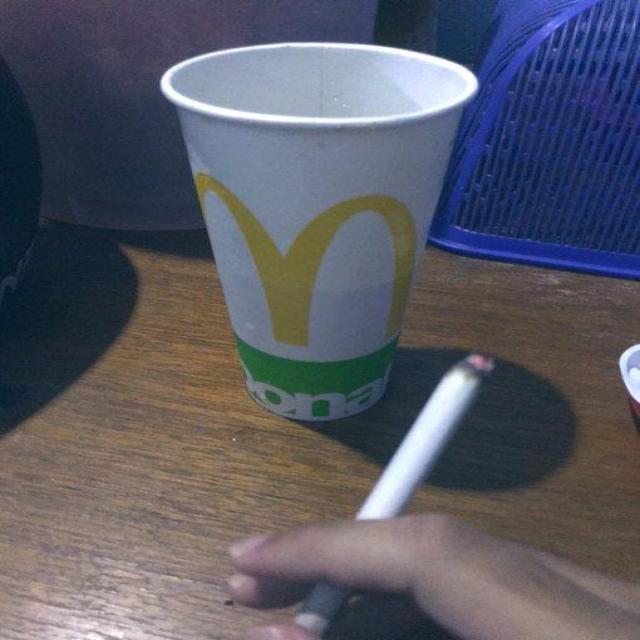rokok: (295, 354, 493, 630)
